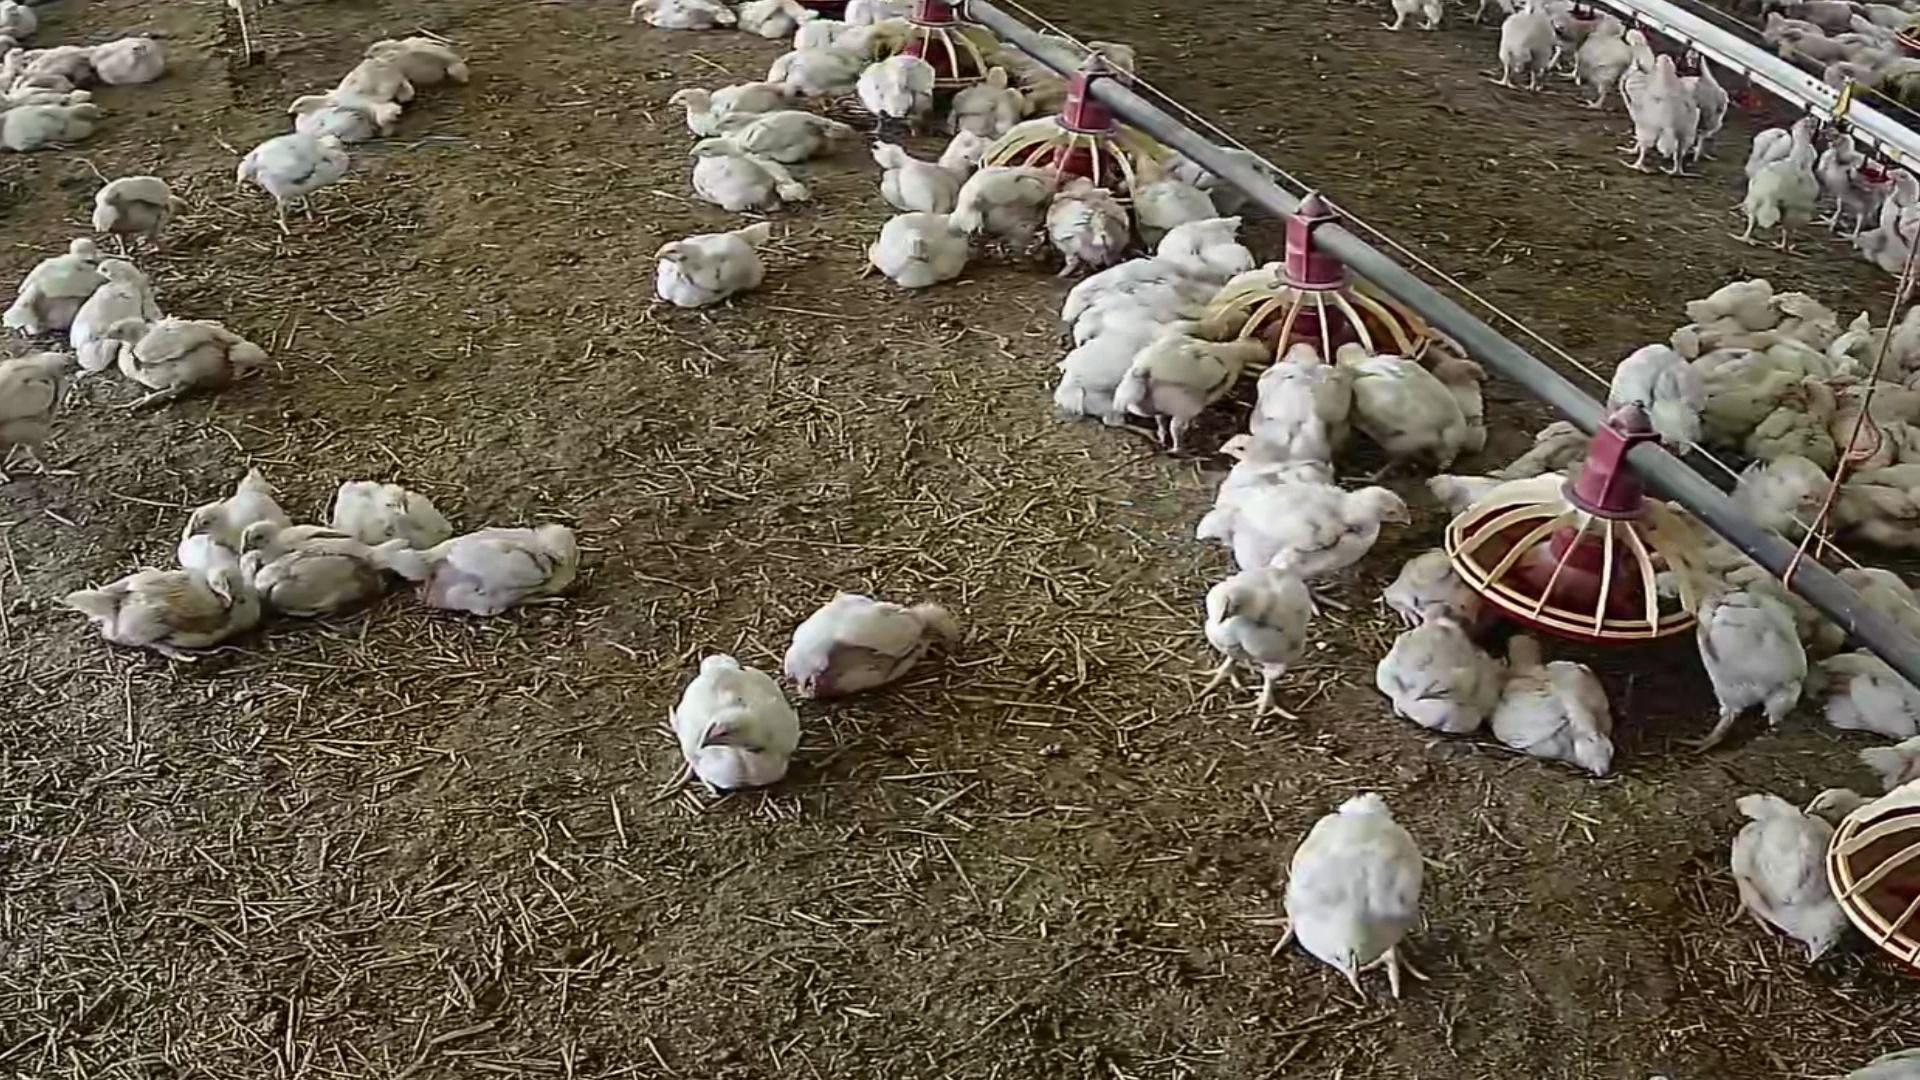poussin: (1284, 793, 1480, 1021), (603, 644, 811, 819), (1702, 766, 1841, 969), (1183, 567, 1346, 738), (1654, 578, 1808, 744), (758, 587, 964, 703), (73, 551, 285, 661), (388, 517, 600, 618), (1207, 468, 1419, 568), (1324, 339, 1458, 476), (1490, 634, 1613, 775), (1366, 591, 1491, 728), (236, 512, 396, 615), (100, 306, 253, 407), (240, 103, 343, 249), (1138, 320, 1254, 447), (674, 149, 825, 245), (640, 224, 806, 307), (0, 339, 98, 473), (1613, 343, 1729, 454), (866, 206, 986, 311), (1737, 119, 1834, 247), (1258, 343, 1353, 463), (1627, 51, 1714, 175), (156, 477, 284, 560), (969, 148, 1067, 255), (1731, 446, 1840, 542), (11, 233, 104, 343), (1044, 179, 1143, 281), (1480, 0, 1576, 103), (83, 174, 199, 258), (287, 71, 405, 149), (852, 55, 952, 144), (1390, 534, 1482, 626), (11, 91, 131, 161), (67, 251, 141, 364), (713, 102, 856, 160), (661, 69, 804, 125), (869, 142, 977, 218), (1702, 363, 1803, 438), (339, 468, 444, 538), (349, 36, 475, 94), (1697, 301, 1826, 356), (84, 34, 203, 94), (1158, 214, 1271, 276), (1838, 464, 1920, 550), (1122, 161, 1216, 235), (1211, 430, 1321, 491), (959, 63, 1047, 137), (1068, 305, 1170, 368), (1677, 277, 1793, 328), (1878, 158, 1920, 281), (1793, 770, 1880, 825), (1826, 132, 1883, 215), (16, 41, 108, 83), (642, 0, 740, 36), (1854, 380, 1920, 426)
